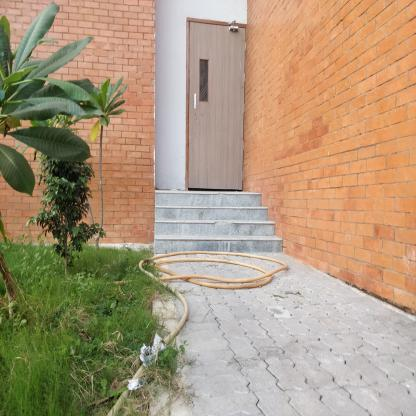stairs: (159, 195, 260, 262)
